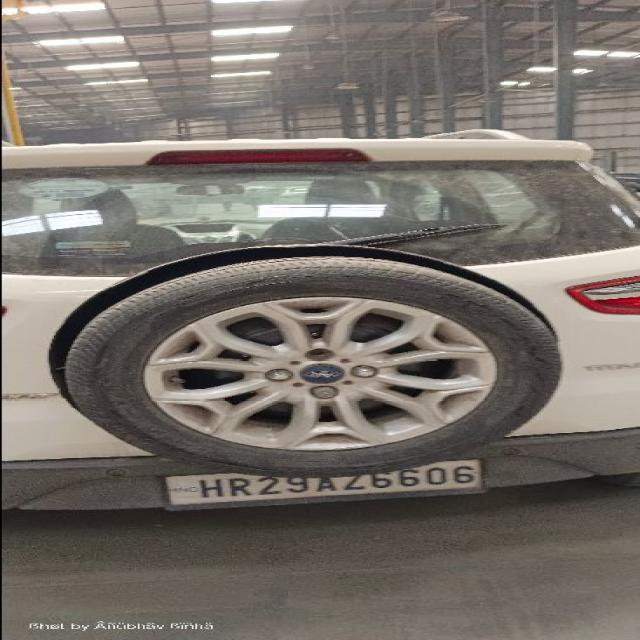license_plate: (159, 457, 488, 510)
